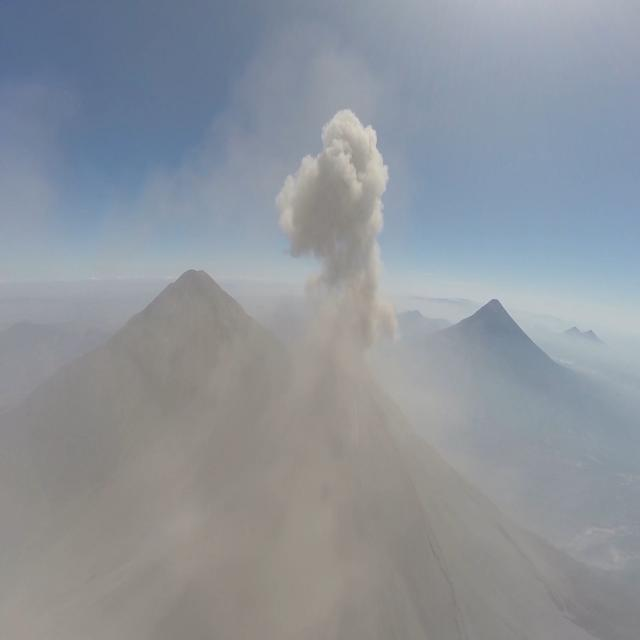Plume: (274, 98, 399, 390)
